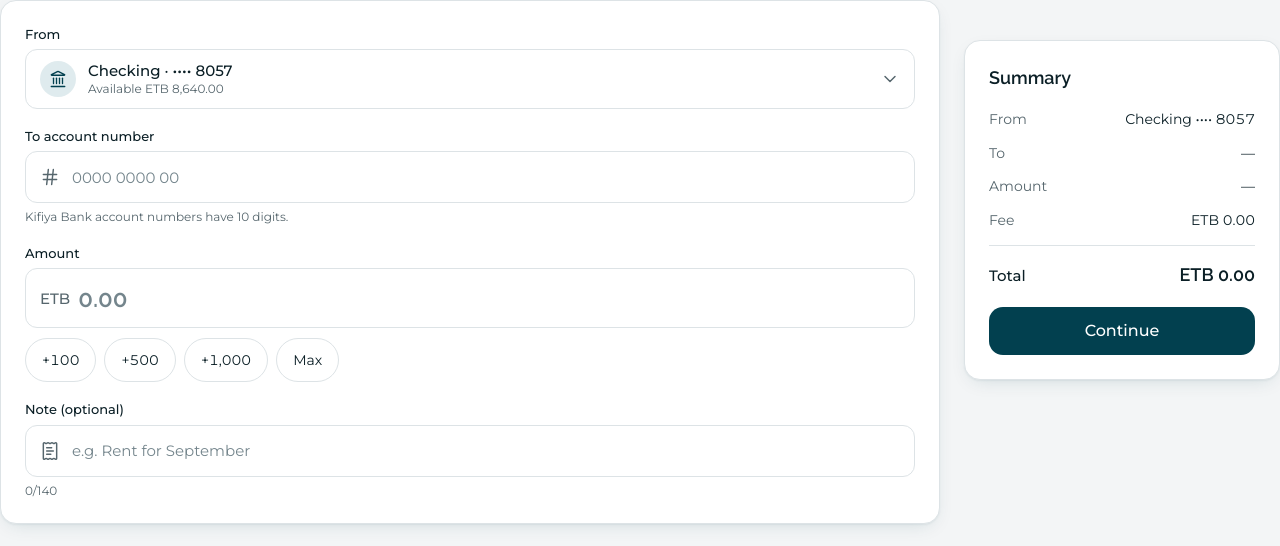
Test: TransferForm › formats the recipient as it is typed
Type "2899010846" into the field labelled "To account number" at (486, 177), box [72,167,900,188]
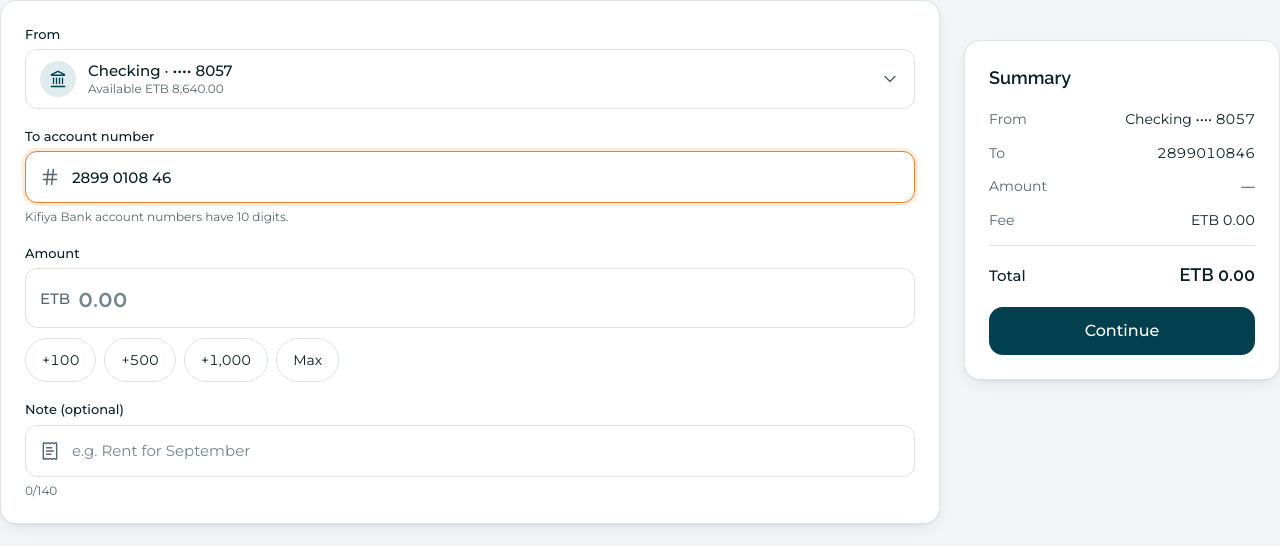
Expected: the field labelled "To account number" holds "2899 0108 46", [72,167,900,188]
